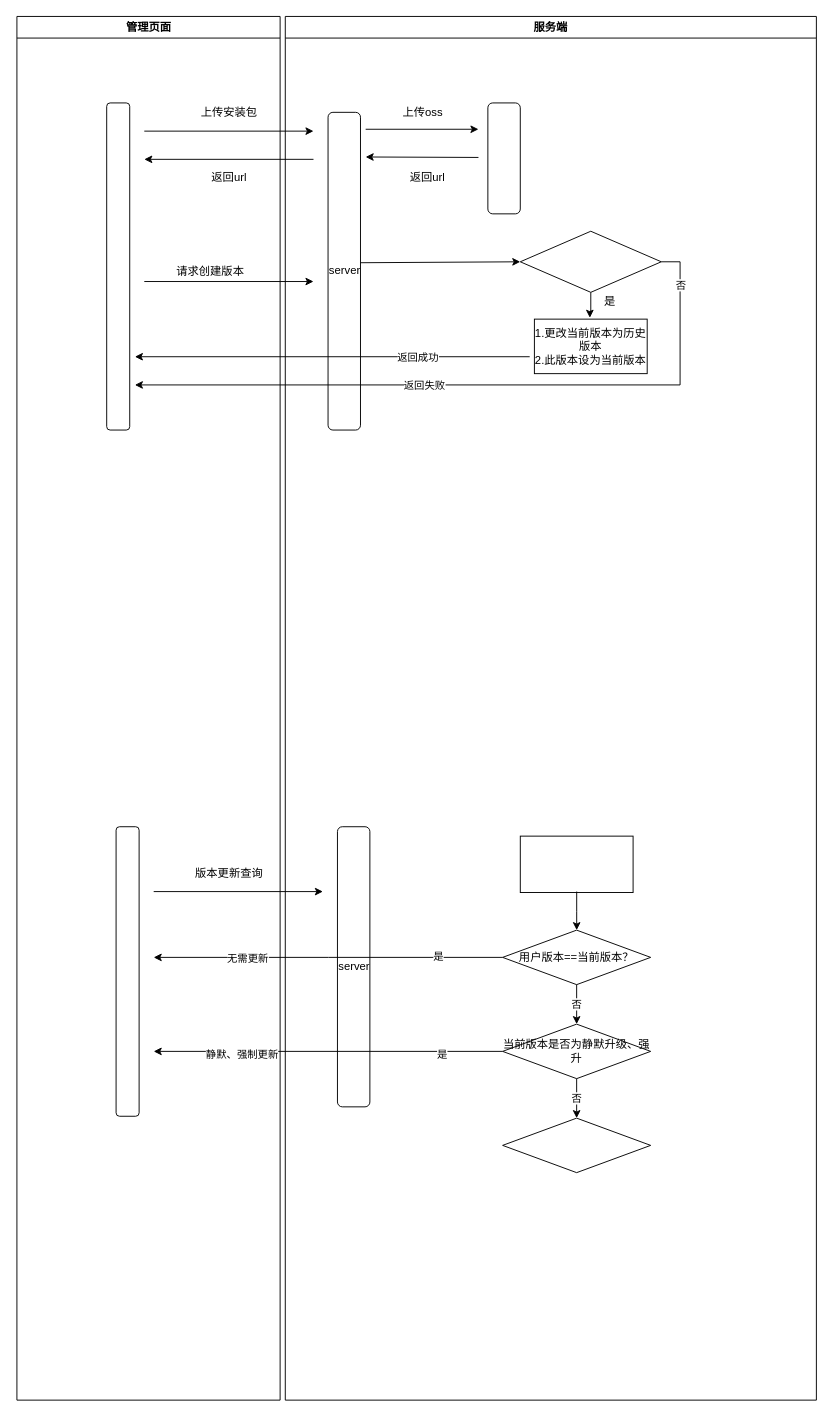
Image size: 833x1417. Some labels were removed from this diagram. Each missing label, with the centre of its shape:
"ali" belongs at (503,158).
"查询当前版本信息" belongs at (576,864).
"版本号>已有最大版本号" belongs at (590,261).
